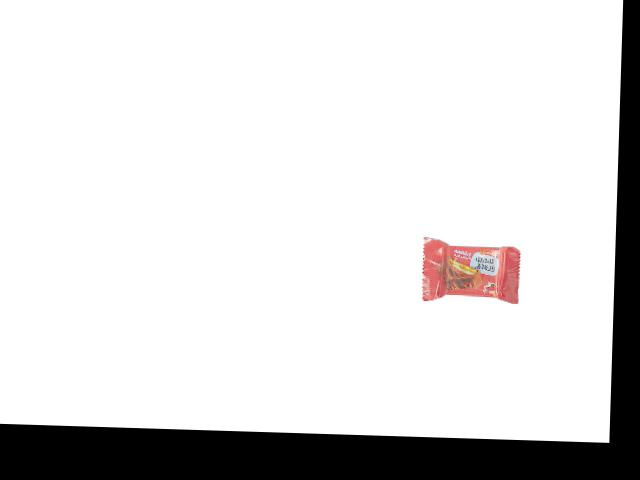chocolate: (420, 230, 529, 303)
